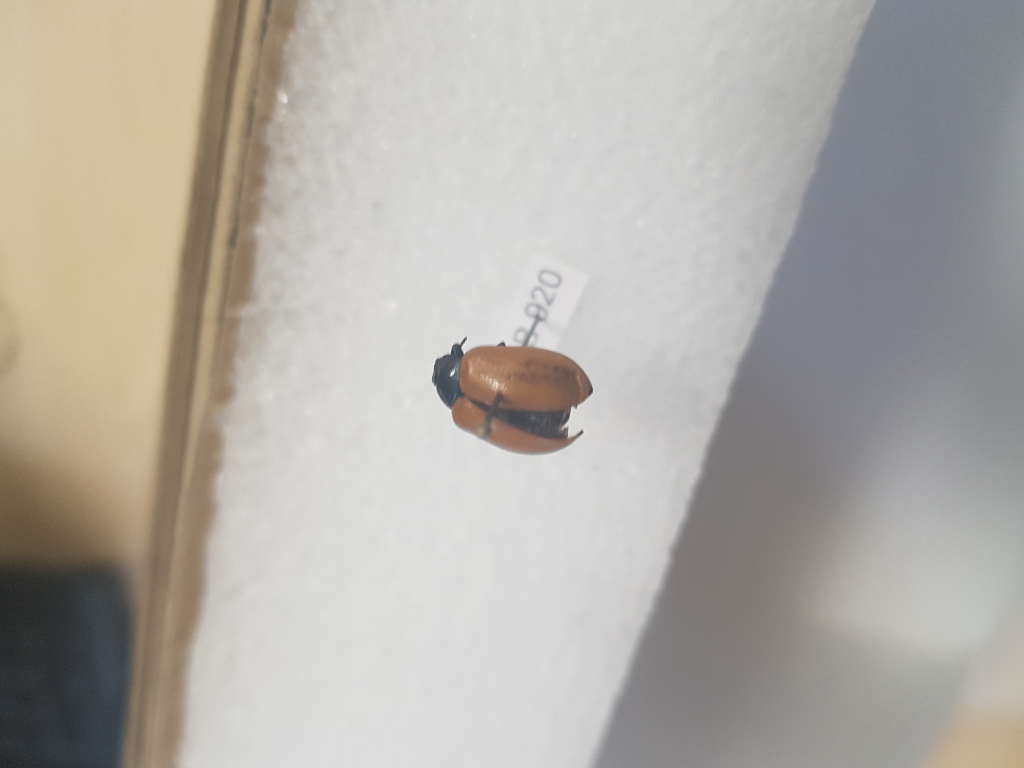Chrysomela_populi: (431, 334, 598, 457)
